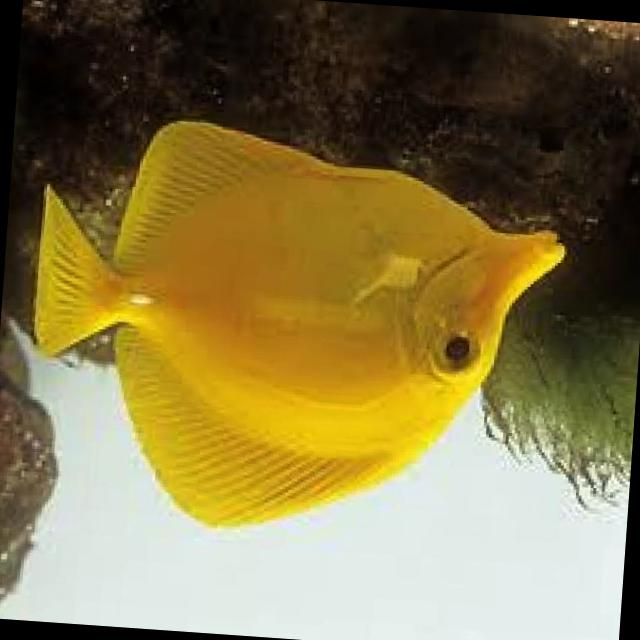YellowTang: (0, 90, 569, 566)
